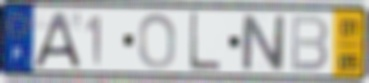1: (84, 14, 103, 67)
A: (31, 9, 83, 70)
B: (288, 14, 330, 74)
L: (187, 11, 223, 74)
N: (239, 12, 287, 73)
O: (136, 12, 178, 71)
